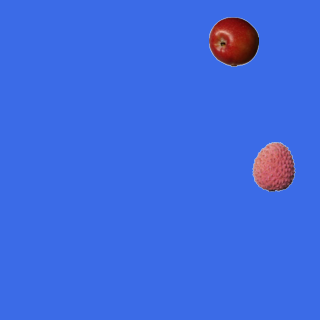Apple Braeburn: (208, 16, 258, 66)
Lychee: (248, 141, 298, 191)
